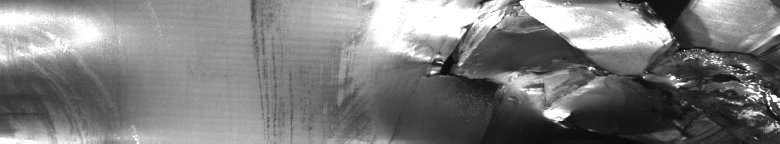ke: (405, 4, 776, 136)
